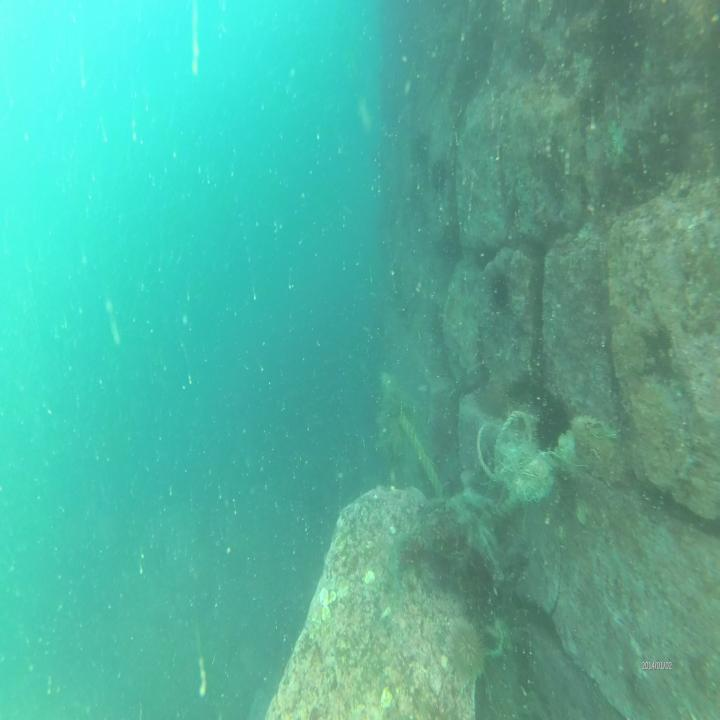echinus: (452, 616, 484, 680), (533, 397, 569, 450), (485, 273, 512, 310), (429, 160, 449, 191)
